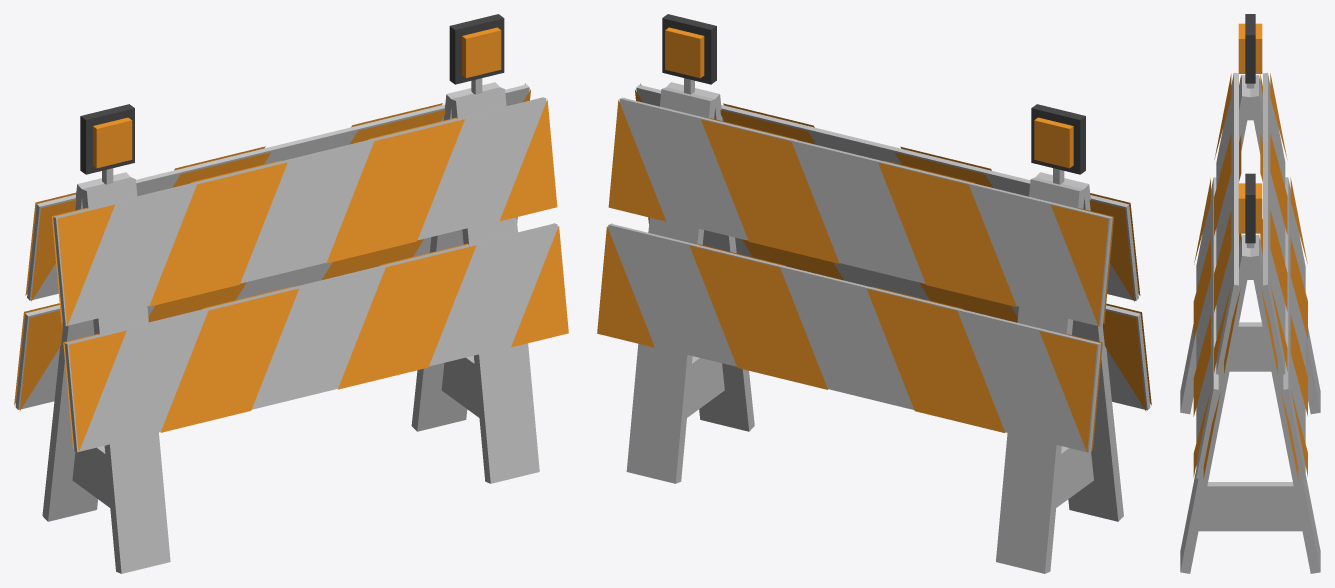
The model's file is Road_Barrier.FBX.
3 renders of one model, left to right at view 1: azimuth 30°, elevation 25°; view 2: azimuth 150°, elevation 25°; view 3: azimuth 270°, elevation 25°, orthographic. The views are drawn at different scales.
Parts seen in each view (by area): view 1: Barrier; view 2: Barrier; view 3: Barrier.
Part boxes in pixels (<box>): Barrier: <box>14,14,568,573</box>; Barrier: <box>597,14,1151,573</box>; Barrier: <box>1180,14,1320,573</box>.
Bounding box in the file's own units: 200 × 167 × 55.94.
